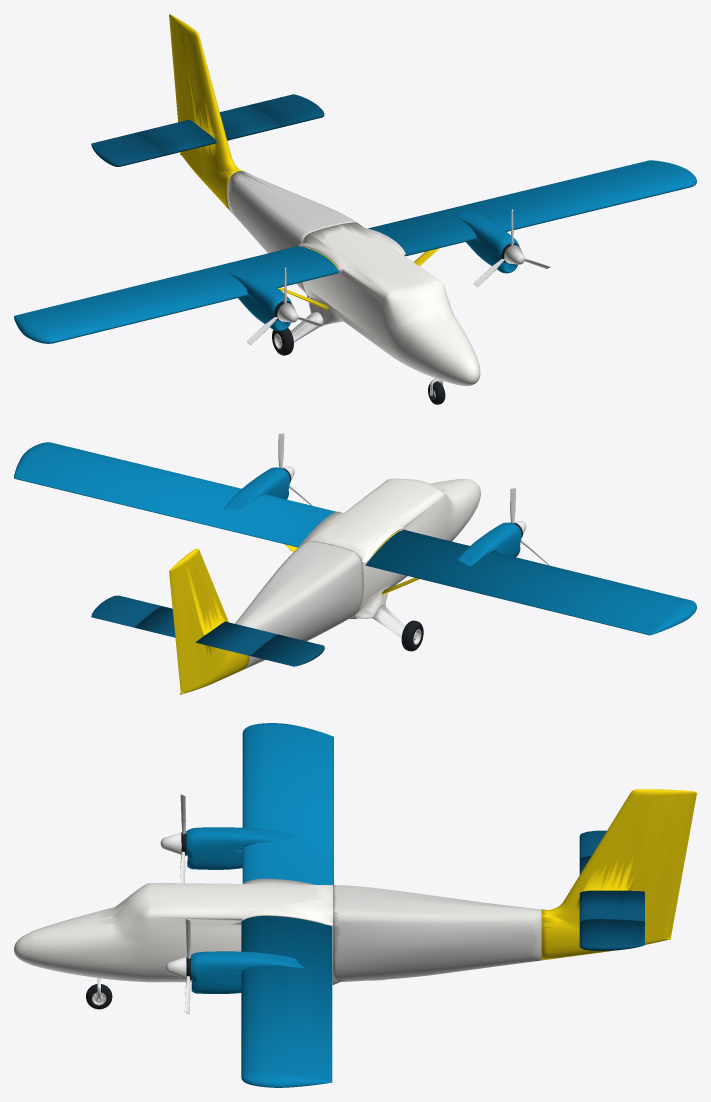
Rendered from dhc6_wheels_painted_training.glb.
3 views of the same model, one above another, from view 1: azimuth 30°, elevation 25°; view 2: azimuth 150°, elevation 25°; view 3: azimuth 270°, elevation 25° (orthographic). The views are drawn at different scales.
Parts seen in each view (by area): view 1: Fus_Forward, Wing_Right, Wing_Left, Fus_Aft, Fus_Mid, Engine_Right, Engine_Left, Elevator_1_Right, Elevator_2_Right, Elevator_2_Left, Elevator_1_Left; view 2: Wing_Right, Wing_Left, Fus_Forward, Fus_Mid, Fus_Aft, Elevator_1_Right, Engine_Right, Elevator_2_Right, Engine_Left, Elevator_2_Left, Elevator_1_Left, Landing_Gear_Rear_Right (+1 smaller); view 3: Fus_Forward, Fus_Mid, Wing_Left, Wing_Right, Fus_Aft, Engine_Right, Engine_Left, Elevator_2_Left, Elevator_1_Left.
Boxes of the visible parts, x1,y1,x2,y2 form: Fus_Forward: [298, 222, 480, 385]; Wing_Right: [14, 246, 338, 343]; Wing_Left: [368, 160, 696, 256]; Fus_Aft: [169, 14, 242, 211]; Fus_Mid: [227, 171, 356, 297]; Engine_Right: [228, 270, 291, 331]; Engine_Left: [456, 211, 519, 273]; Elevator_1_Right: [135, 119, 216, 156]; Elevator_2_Right: [91, 133, 163, 166]; Elevator_2_Left: [251, 94, 324, 127]; Elevator_1_Left: [220, 104, 279, 140]; Wing_Right: [365, 530, 696, 635]; Wing_Left: [14, 442, 335, 547]; Fus_Forward: [299, 478, 480, 618]; Fus_Mid: [235, 540, 363, 669]; Fus_Aft: [169, 548, 249, 694]; Elevator_1_Right: [196, 621, 278, 655]; Engine_Right: [458, 522, 521, 566]; Elevator_2_Right: [251, 634, 324, 666]; Engine_Left: [223, 467, 290, 510]; Elevator_2_Left: [91, 595, 161, 627]; Elevator_1_Left: [134, 606, 175, 637]; Landing_Gear_Rear_Right: [373, 604, 405, 637]; Fus_Forward: [14, 878, 332, 985]; Fus_Mid: [333, 885, 541, 984]; Wing_Left: [241, 916, 332, 1087]; Wing_Right: [242, 723, 333, 884]; Fus_Aft: [541, 789, 696, 960]; Engine_Right: [186, 827, 295, 869]; Engine_Left: [190, 951, 303, 993]; Elevator_2_Left: [579, 919, 644, 950]; Elevator_1_Left: [579, 890, 644, 922].
Bounding box in the file's own units: 457 × 129 × 364.
